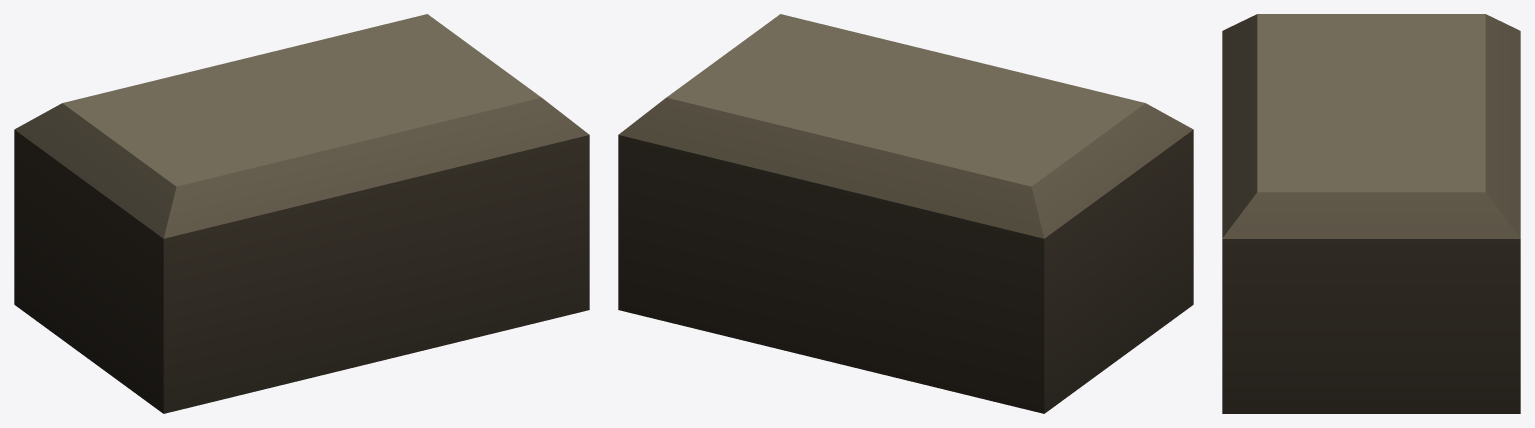
File: steam-engine.glb
3 views of the same model, side by side, from view 1: azimuth 30°, elevation 25°; view 2: azimuth 150°, elevation 25°; view 3: azimuth 270°, elevation 25° (orthographic).
Visible parts, largest first — view 1: steam-engine; view 2: steam-engine; view 3: steam-engine.
Part boxes in pixels (<box>): steam-engine: <box>14,14,589,413</box>; steam-engine: <box>618,14,1193,413</box>; steam-engine: <box>1222,14,1520,413</box>.
Bounding box in the file's own units: 0.28 × 0.13 × 0.17.
